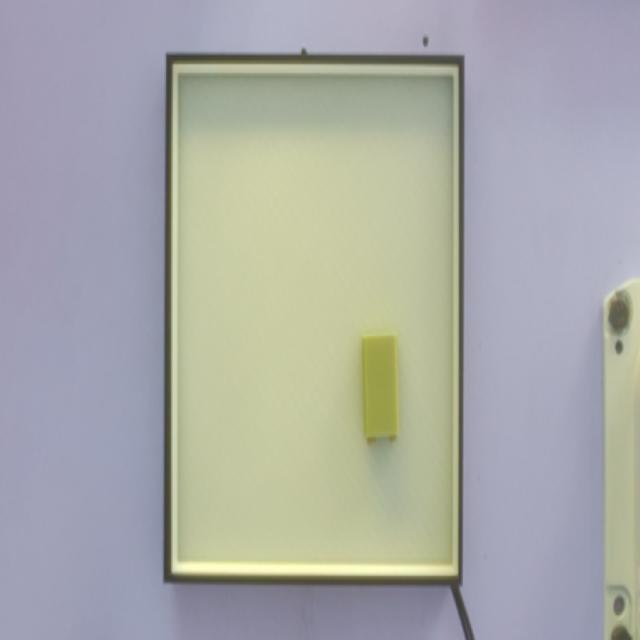bateria: (360, 331, 399, 447)
mesa: (163, 54, 464, 585)
